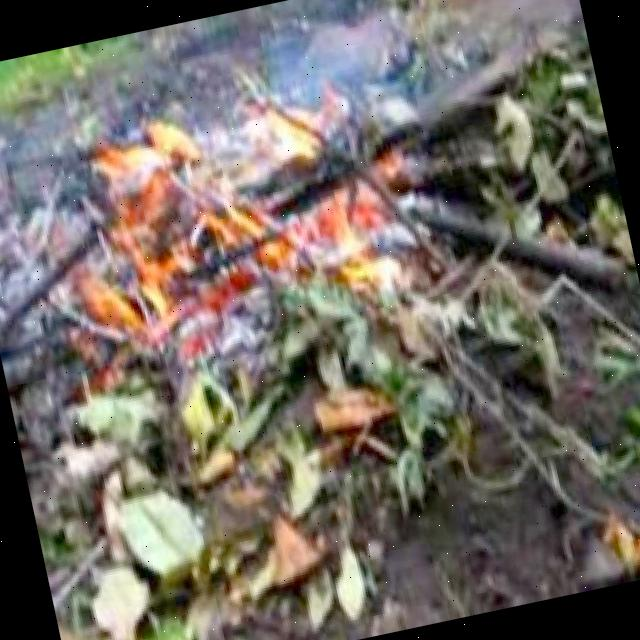fire: (34, 88, 407, 352)
